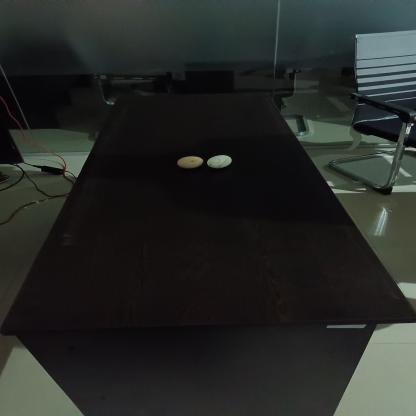egg: (172, 154, 204, 170), (204, 153, 232, 168)
